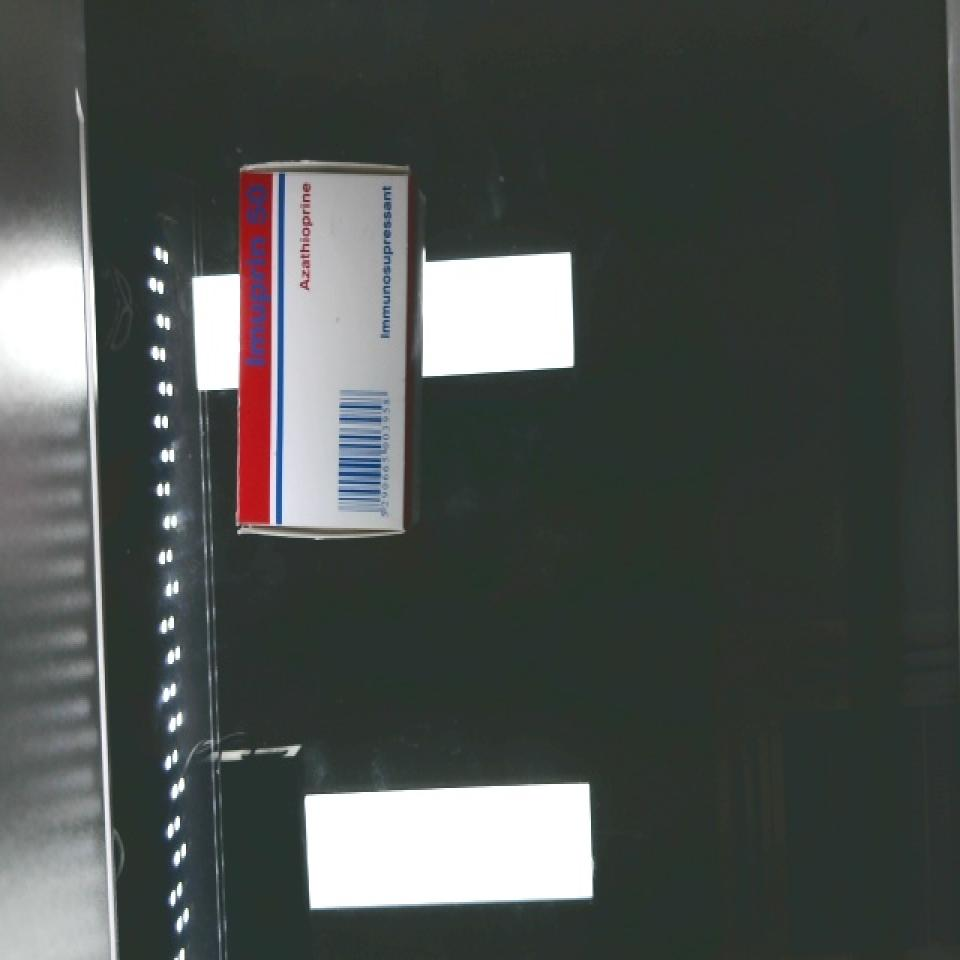medicine_box: (233, 162, 406, 532)
medicine_label_obb: (237, 163, 283, 383)
